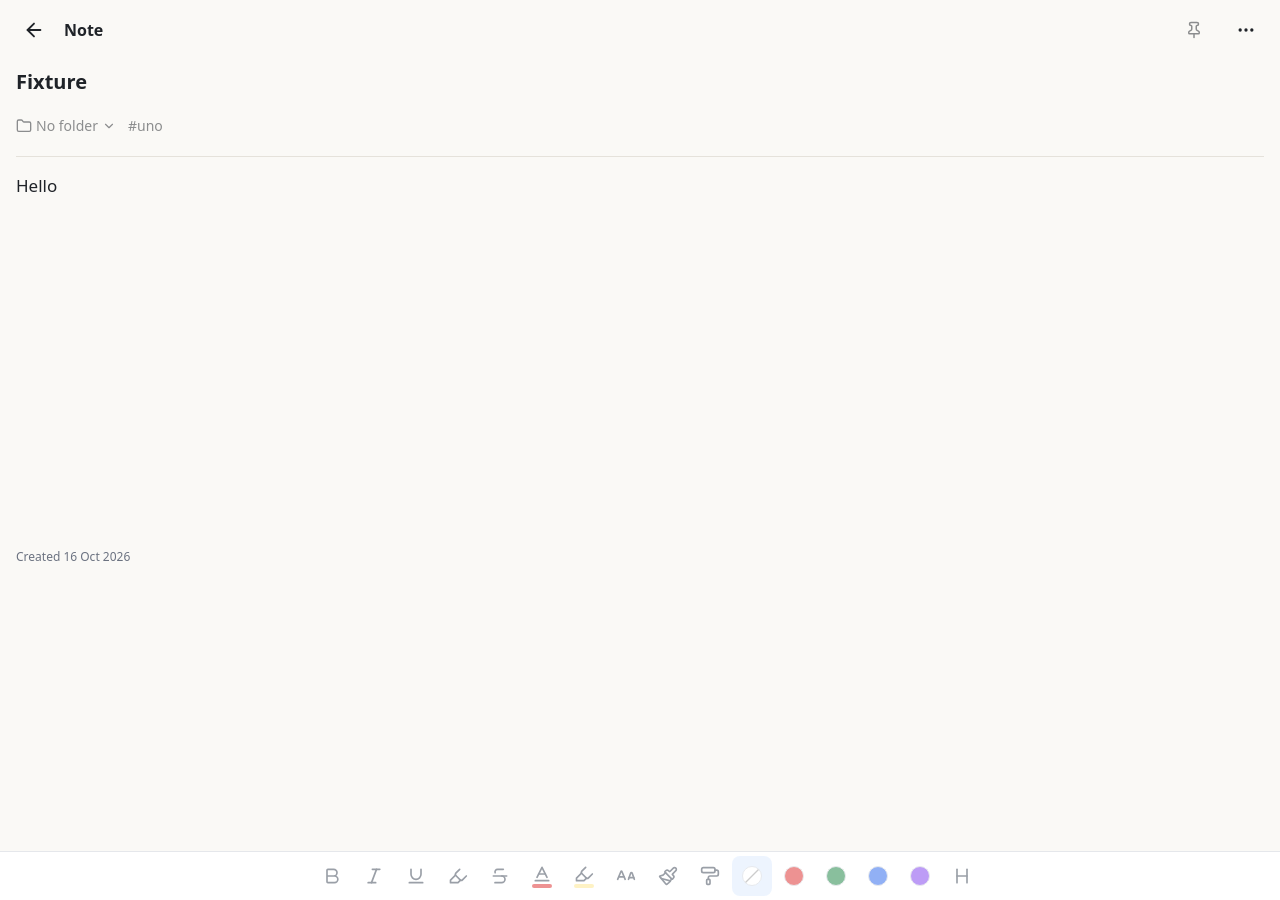
Test: keeps folder, tags, pin and delete disabled in read-only mode while Copy as text stays available
Expected: the element showing "No folder" is disabled, [16,104,116,148]
Step 1. Click the button named "Note options" → (1246, 30), box [1224,8,1268,52]
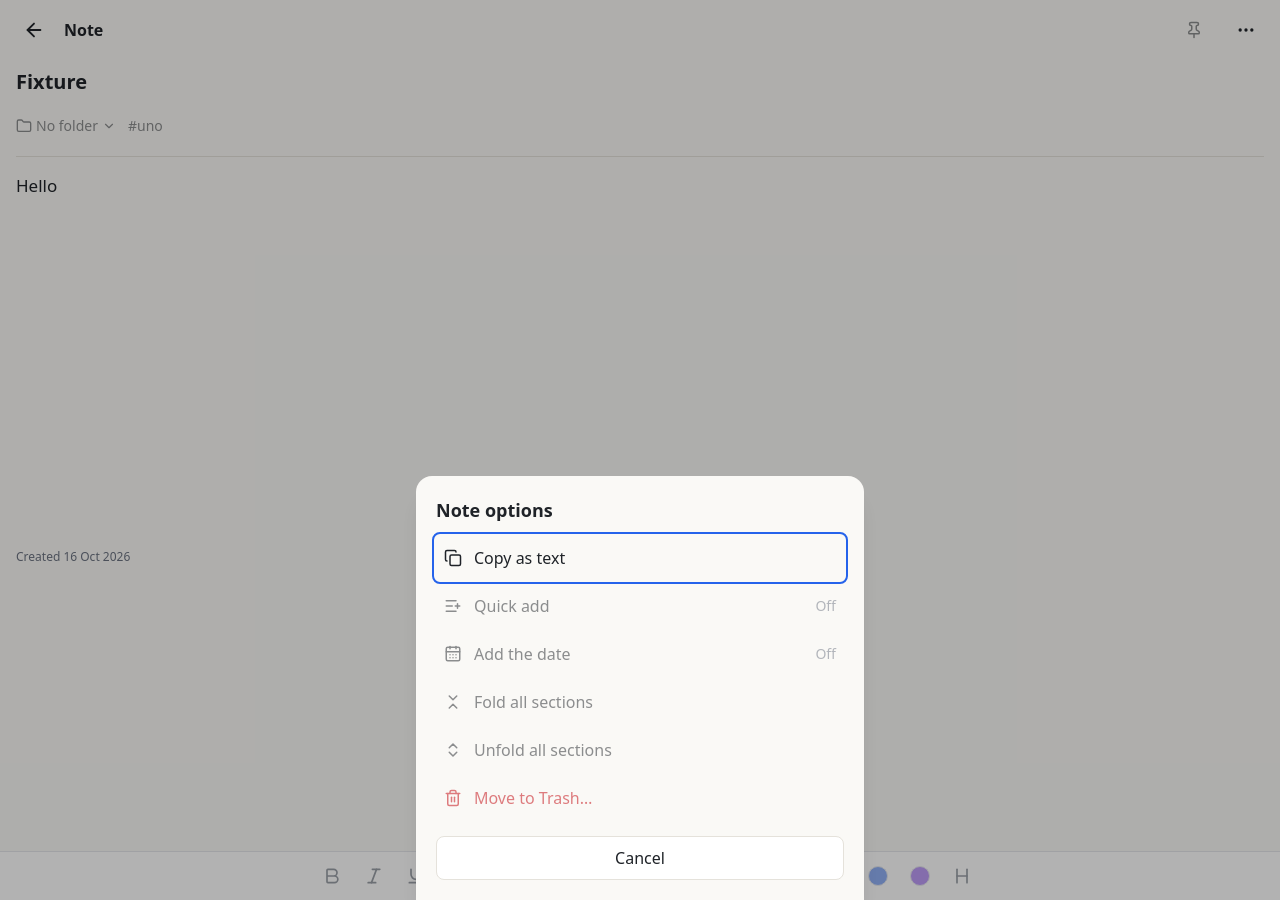
Expected: the button "Copy as text" is enabled, [436,536,844,580]
Expected: the button "Move to Trash…" is disabled, [436,776,844,820]
